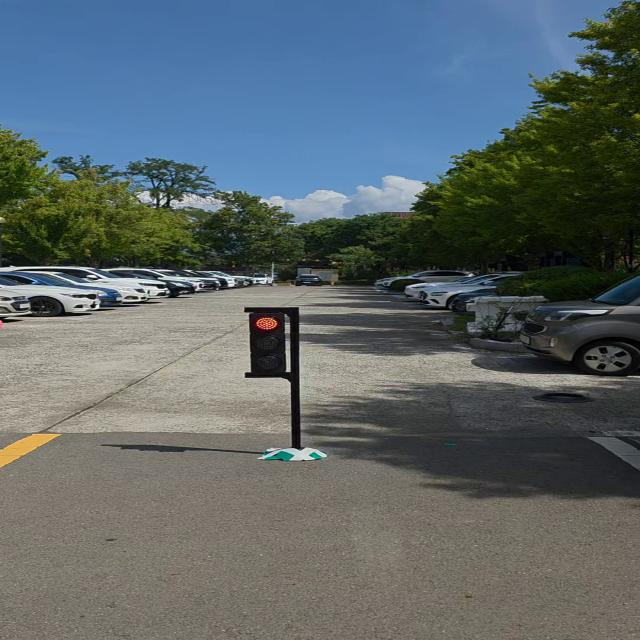red: (247, 309, 298, 377)
